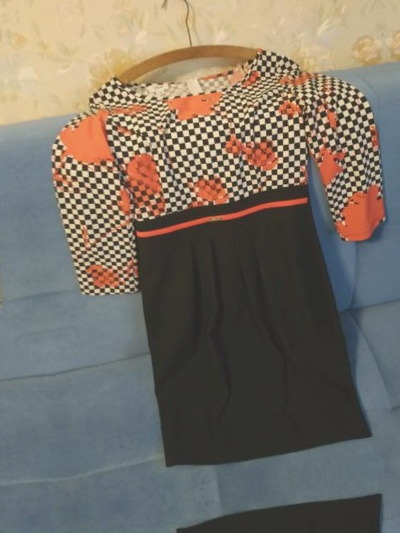Dress: (30, 10, 400, 497), (0, 73, 46, 533), (104, 469, 400, 533), (389, 0, 400, 439), (0, 532, 120, 533)
